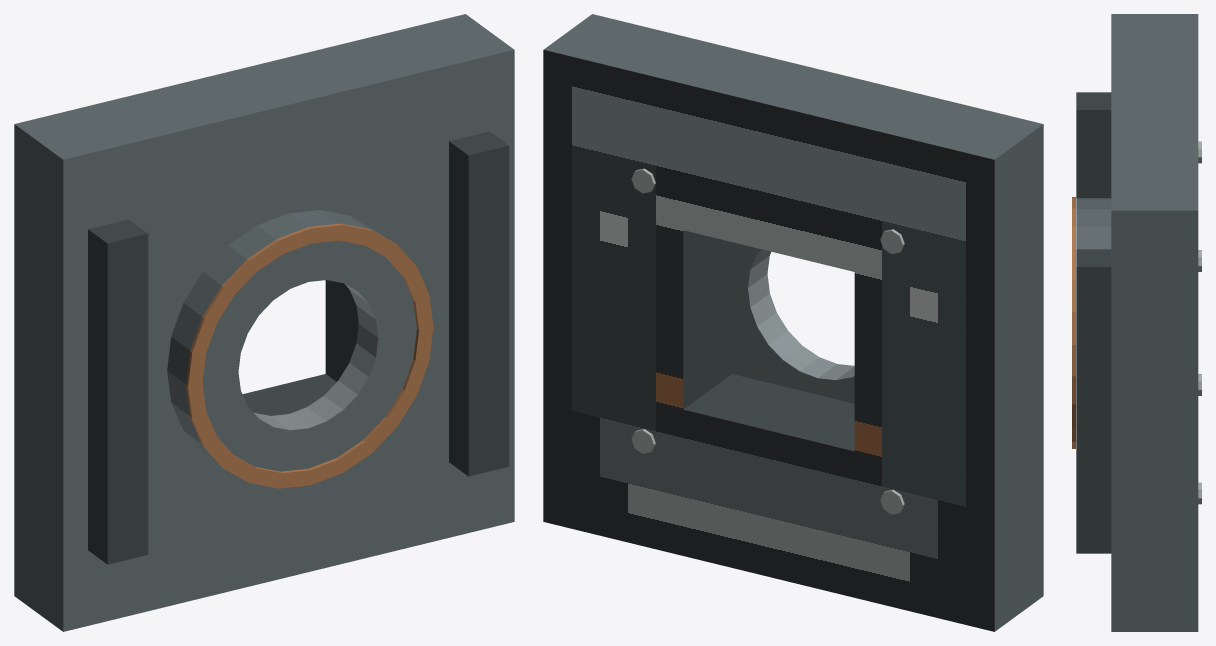
File: output_shaft_front.obj
3 views of the same model, side by side, from view 1: azimuth 30°, elevation 25°; view 2: azimuth 150°, elevation 25°; view 3: azimuth 270°, elevation 25° (orthographic). The views are drawn at different scales.
Parts seen in each view (by area): view 1: end_plate, fixed_outer_race, box_support_0.1, box_support_0.9, fixed_lock_ring; view 2: end_plate, fixed_outer_race; view 3: end_plate, box_support_0.9, box_support_0.1, fixed_outer_race, fixed_lock_ring.
Boxes of the visible parts, box(x1,y1,x2,y2) form: end_plate: box(14, 14, 514, 631); fixed_outer_race: box(167, 210, 416, 471); box_support_0.1: box(88, 219, 148, 564); box_support_0.9: box(449, 131, 509, 476); fixed_lock_ring: box(186, 223, 433, 488); end_plate: box(543, 14, 1043, 631); fixed_outer_race: box(732, 242, 854, 403); end_plate: box(1111, 14, 1198, 631); box_support_0.9: box(1076, 249, 1111, 553); box_support_0.1: box(1076, 92, 1111, 197); fixed_outer_race: box(1076, 198, 1111, 249); fixed_lock_ring: box(1072, 197, 1075, 448).
Bounding box in the file's own units: 1 × 1 × 0.279.
